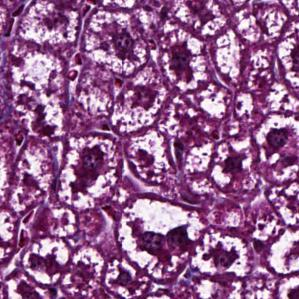inflammation: (57, 137, 118, 210), (164, 36, 201, 85)
